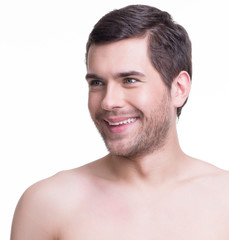young: (74, 8, 191, 155)
